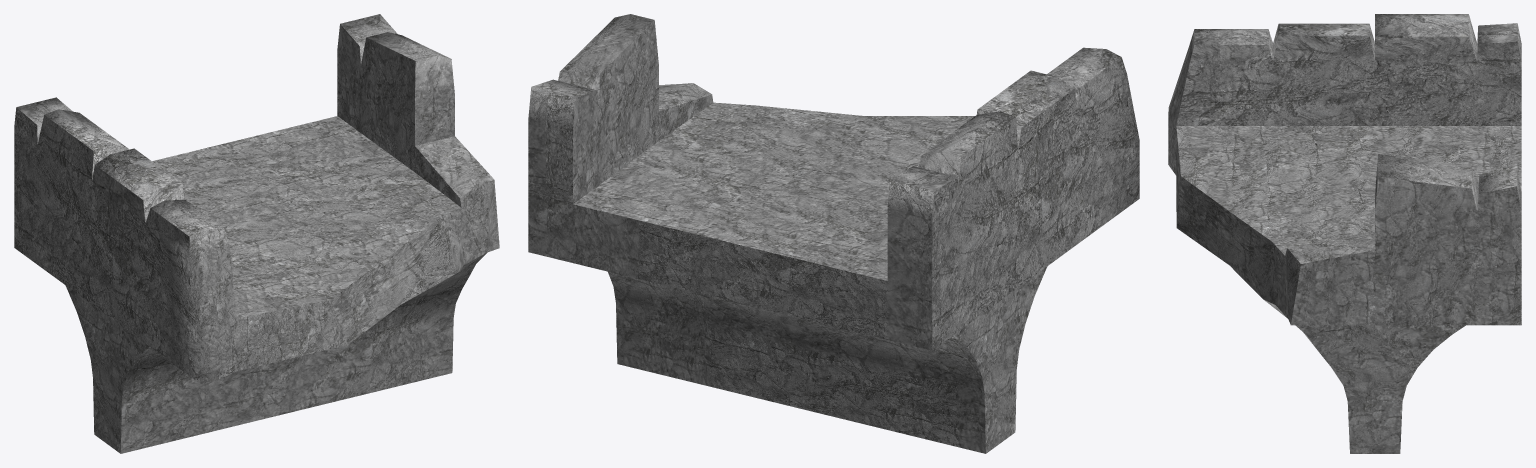
File: materials_3_bridge_5.fbx
3 renders of one model, left to right at view 1: azimuth 30°, elevation 25°; view 2: azimuth 150°, elevation 25°; view 3: azimuth 270°, elevation 25°, orthographic. The views are drawn at different scales.
Visible parts, largest first — view 1: materials_3_bridge_5; view 2: materials_3_bridge_5; view 3: materials_3_bridge_5.
Part boxes in pixels (x1,y1,x2,y2): materials_3_bridge_5: [14, 14, 499, 453]; materials_3_bridge_5: [528, 14, 1139, 453]; materials_3_bridge_5: [1168, 14, 1521, 453].
Bounding box in the file's own units: 300 × 242 × 267.
